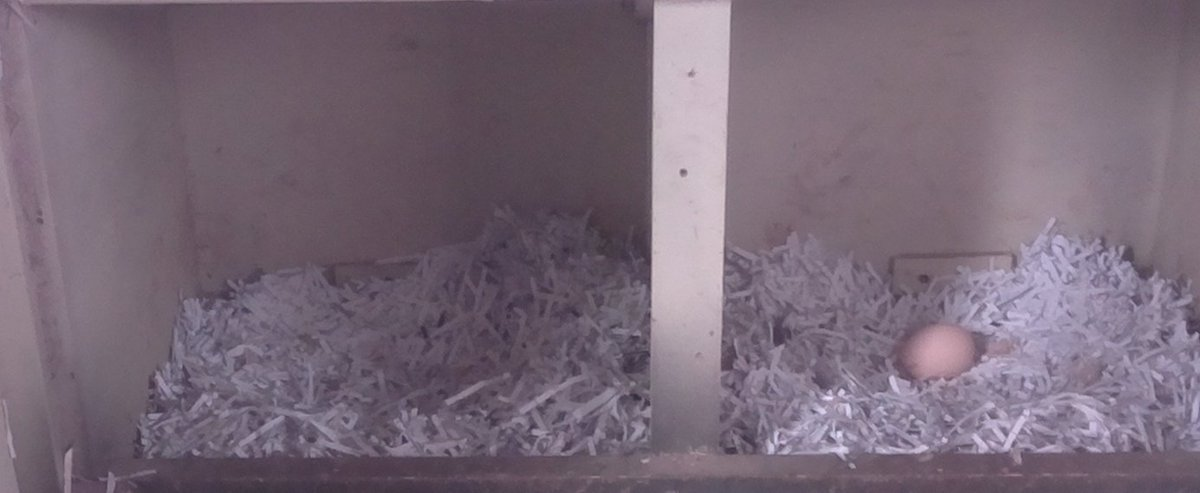egg: (895, 319, 980, 385)
